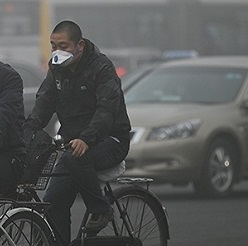person: (27, 19, 130, 240), (1, 57, 30, 198)
